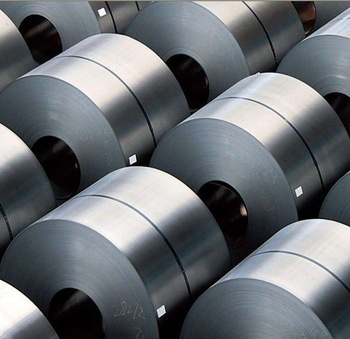steel-coil: (3, 5, 342, 289), (151, 58, 313, 208), (34, 172, 208, 287), (182, 58, 313, 208), (23, 25, 156, 160), (143, 4, 271, 103), (241, 218, 347, 288), (290, 11, 349, 87)
